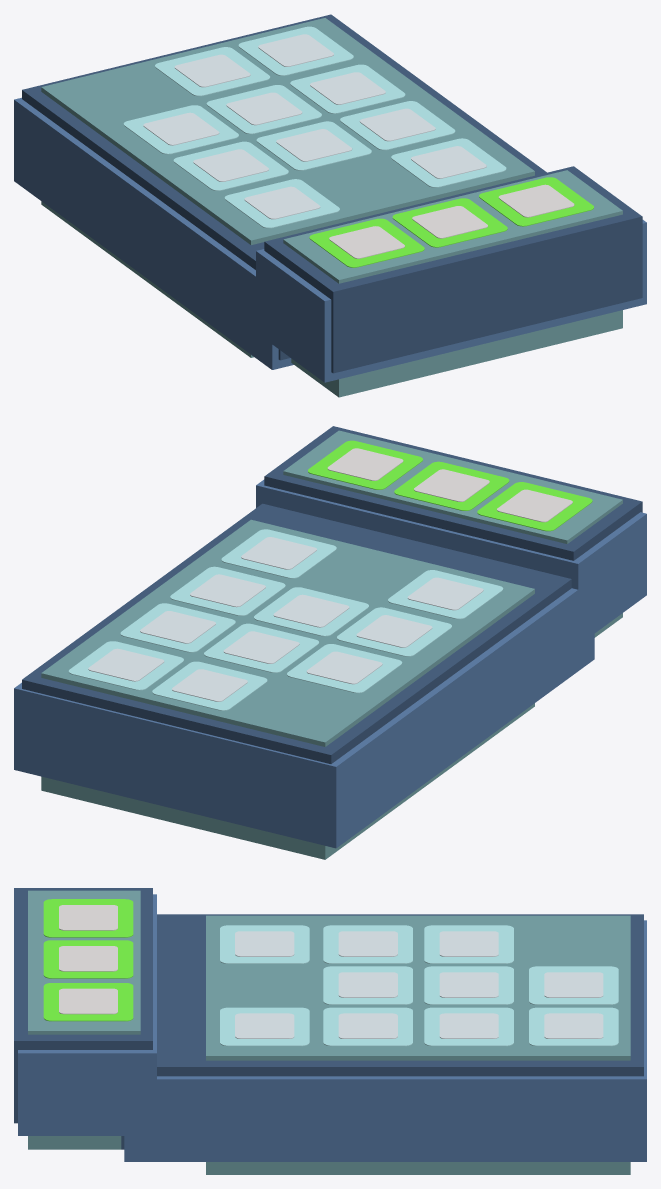
File: ---TABLE---.fbx
3 views of the same model, one above another, from view 1: azimuth 30°, elevation 25°; view 2: azimuth 150°, elevation 25°; view 3: azimuth 270°, elevation 25° (orthographic).
Visible parts, largest first — view 1: plane_2__19_, plane_1, plane_2__1_, plane_1__26_, plane_2__20_, plane_2, Rectangle001_2, Rectangle001, Rectangle001_4, Rectangle001_1, Rectangle001_9, Rectangle001_11 (+20 smaller); view 2: plane_2__1_, plane_1, plane_2, plane_2__20_, plane_2__19_, plane_1__26_, Rectangle001_8, Rectangle001, Rectangle001_1, Rectangle001_6, Rectangle001_7, Rectangle001_12 (+20 smaller); view 3: plane_2__1_, plane_1, plane_2, plane_2__20_, plane_1__26_, plane_2__19_, Rectangle001_9, Rectangle001_6, Rectangle001, Rectangle001_3, Rectangle001_11, Rectangle001_12 (+20 smaller).
Boxes of the visible parts, <box> form: plane_2__19_: <box>264,166,642,373</box>; plane_1: <box>41,18,534,357</box>; plane_2__1_: <box>14,97,293,369</box>; plane_1__26_: <box>283,170,622,397</box>; plane_2__20_: <box>256,220,646,382</box>; plane_2: <box>22,14,546,360</box>; Rectangle001_2: <box>256,121,371,170</box>; Rectangle001: <box>391,138,506,187</box>; Rectangle001_4: <box>173,141,288,190</box>; Rectangle001_1: <box>224,179,339,228</box>; Rectangle001_9: <box>238,26,353,75</box>; Rectangle001_11: <box>392,198,507,247</box>; plane_2__1_: <box>14,578,594,848</box>; plane_1: <box>41,519,534,859</box>; plane_2: <box>22,503,571,763</box>; plane_2__20_: <box>256,479,646,632</box>; plane_2__19_: <box>264,426,642,560</box>; plane_1__26_: <box>283,430,622,637</box>; Rectangle001_8: <box>152,661,267,710</box>; Rectangle001: <box>221,529,336,578</box>; Rectangle001_1: <box>388,570,503,619</box>; Rectangle001_6: <box>120,603,235,652</box>; Rectangle001_7: <box>204,623,319,672</box>; Rectangle001_12: <box>477,482,592,531</box>; plane_2__1_: <box>124,920,646,1161</box>; plane_1: <box>206,915,630,1174</box>; plane_2: <box>121,914,643,1149</box>; plane_2__20_: <box>18,894,156,1135</box>; plane_1__26_: <box>28,890,140,1149</box>; plane_2__19_: <box>14,888,152,1123</box>; Rectangle001_9: <box>529,1007,618,1046</box>; Rectangle001_6: <box>424,1007,513,1046</box>; Rectangle001: <box>220,1007,309,1046</box>; Rectangle001_3: <box>323,1007,412,1046</box>; Rectangle001_11: <box>43,940,133,978</box>; Rectangle001_12: <box>43,899,133,937</box>.
Size of the model in its own units: 158 by 67.61 by 266.
